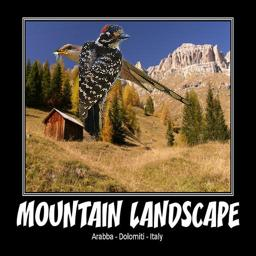Cuckoo: (50, 43, 193, 106)
Woodpecker: (79, 23, 130, 141)
